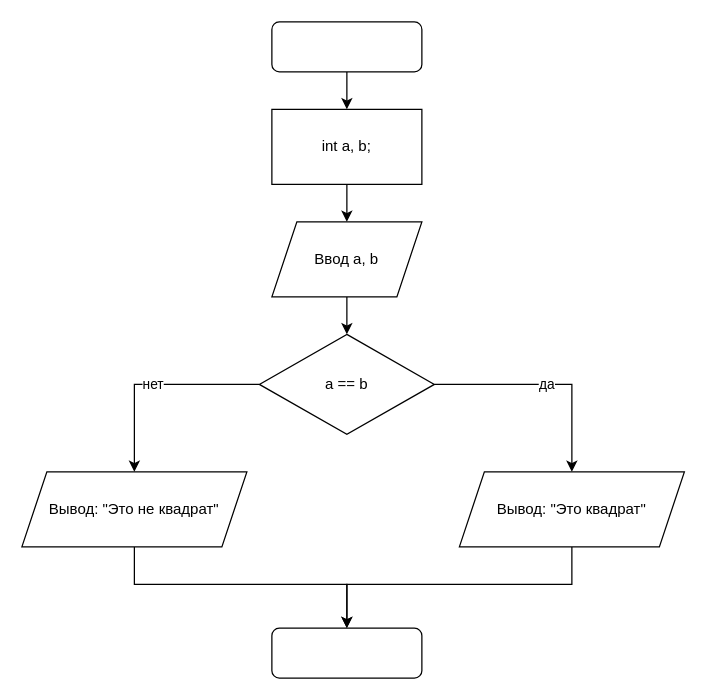
This 706x700 diagram has some shape labels left out. Here are the shapes that lost their labels. From the top down, the centre of each, then its label:
At (x=346, y=46): "начало".
At (x=346, y=652): "конец".
